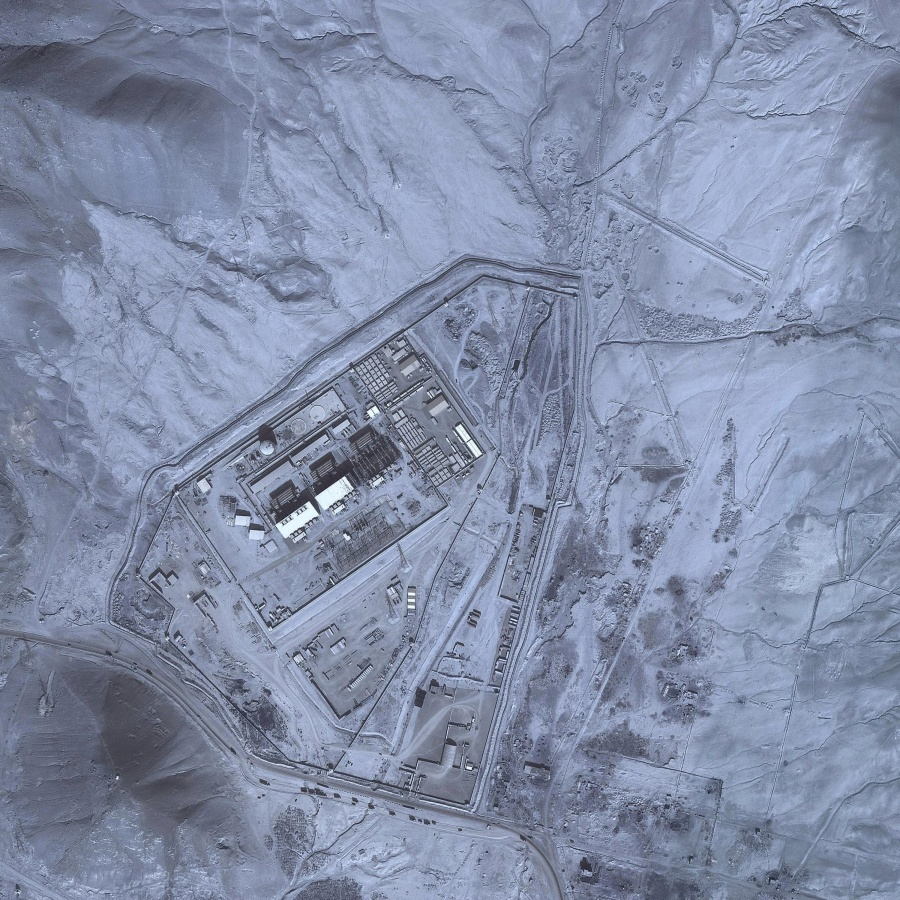PowerPlant: (232, 358, 482, 542)
